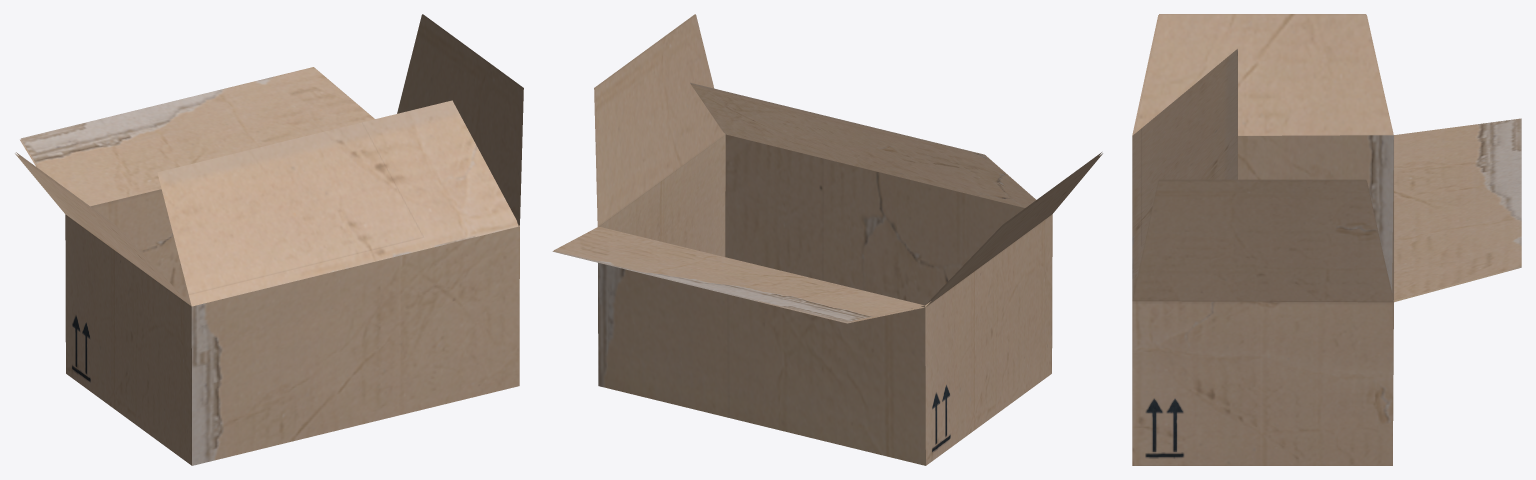
Rendered from trippybox.obj.
3 views of the same model, side by side, from view 1: azimuth 30°, elevation 25°; view 2: azimuth 150°, elevation 25°; view 3: azimuth 270°, elevation 25° (orthographic). The views are drawn at different scales.
Parts seen in each view (by area): view 1: UTE_outsideCube, INNE_insideCube; view 2: INNE_insideCube, UTE_outsideCube; view 3: UTE_outsideCube, INNE_insideCube.
Boxes of the visible parts, box(x1,y1,x2,y2) form: UTE_outsideCube: box(15, 14, 523, 465); INNE_insideCube: box(16, 14, 522, 305); INNE_insideCube: box(554, 14, 1101, 321); UTE_outsideCube: box(552, 14, 1102, 465); UTE_outsideCube: box(1132, 15, 1521, 465); INNE_insideCube: box(1134, 14, 1521, 300).
Size of the model in its own units: 0.3 by 0.2 by 0.24.
